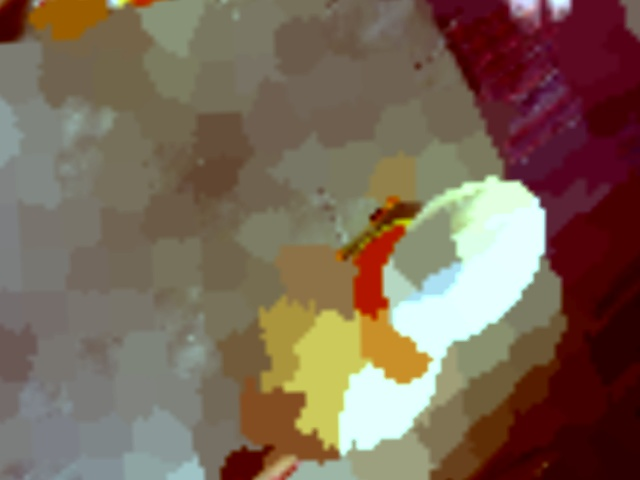two: (407, 228, 470, 305)
